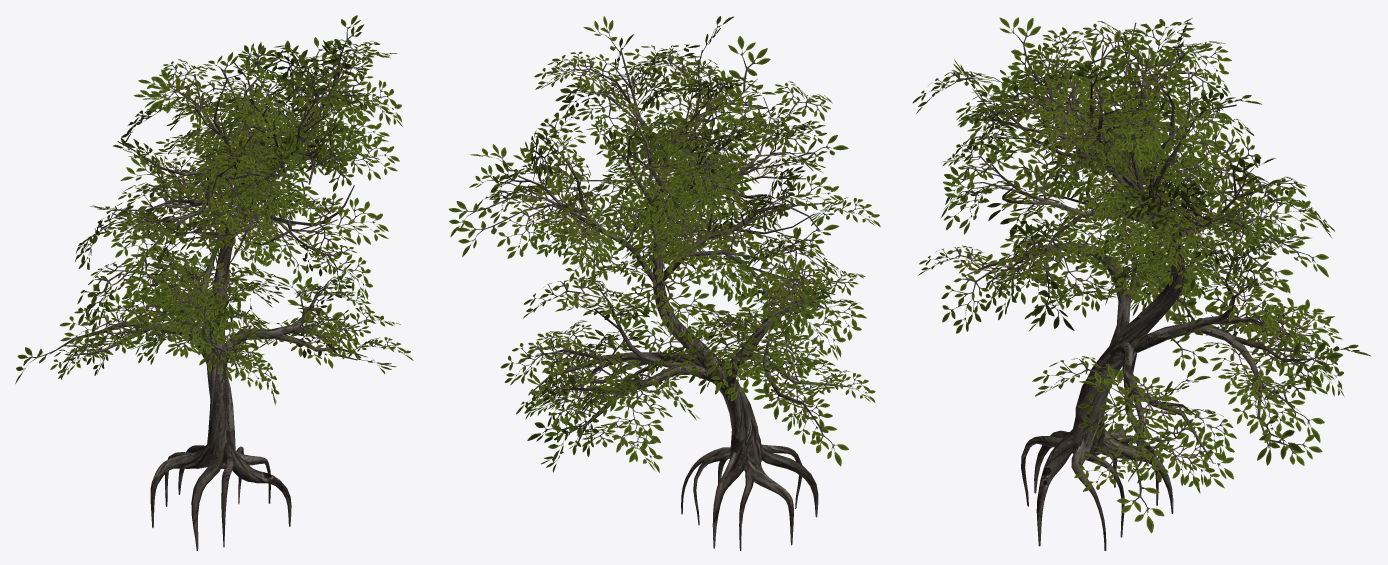
File: Tree1-1-Leaves.fbx
3 views of the same model, side by side, from view 1: azimuth 30°, elevation 25°; view 2: azimuth 150°, elevation 25°; view 3: azimuth 270°, elevation 25° (orthographic). The views are drawn at different scales.
Parts seen in each view (by area): view 1: Tree1-1-Leaves_LOD0; view 2: Tree1-1-Leaves_LOD0; view 3: Tree1-1-Leaves_LOD0.
Part boxes in pixels (x1,y1,x2,y2): Tree1-1-Leaves_LOD0: [15, 15, 413, 550]; Tree1-1-Leaves_LOD0: [449, 16, 880, 550]; Tree1-1-Leaves_LOD0: [912, 17, 1370, 550].
Size of what is drawn, in the model's own units: 4.22 by 3.91 by 5.04.
